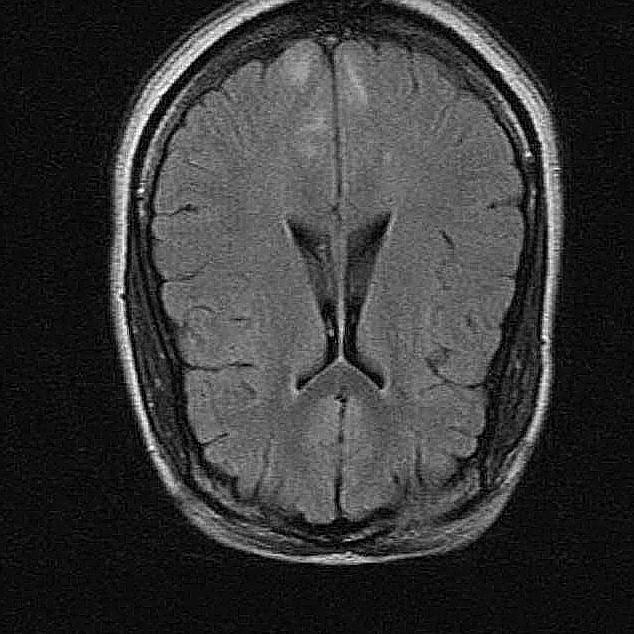Normal_Brain: (1, 1, 634, 631)
